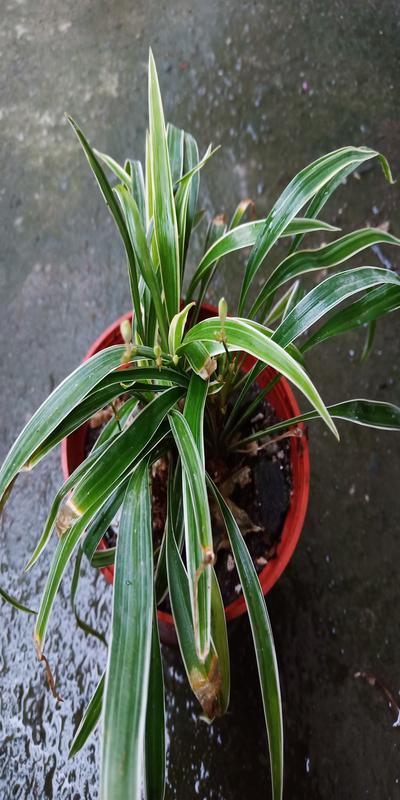Yellow and green leaf: (23, 156, 365, 661)
